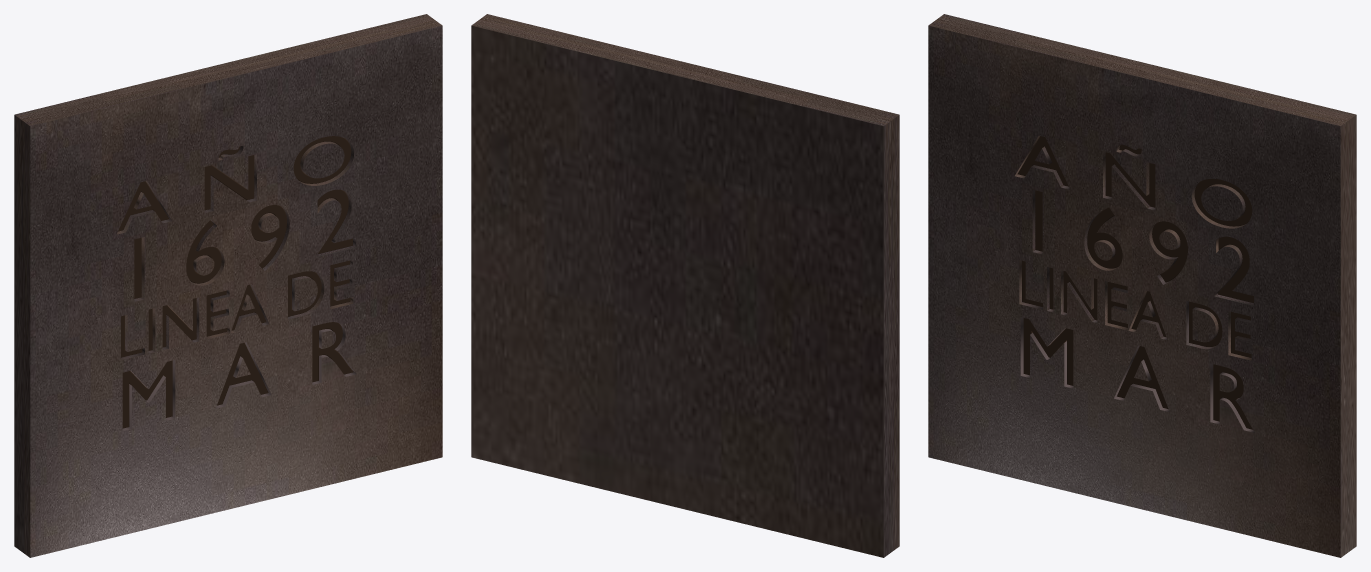
The model's file is Placa 3d.glb.
3 renders of one model, left to right at view 1: azimuth 30°, elevation 25°; view 2: azimuth 150°, elevation 25°; view 3: azimuth 330°, elevation 25°, orthographic.
Visible parts, largest first — view 1: Cube; view 2: Cube; view 3: Cube.
Boxes of the visible parts, x1,y1,x2,y2 form: Cube: (14,14,442,557); Cube: (471,14,899,557); Cube: (928,14,1356,557).
Bounding box in the file's own units: 0.15 × 0.15 × 0.01.
Materials: 2 (1 with a texture image).
